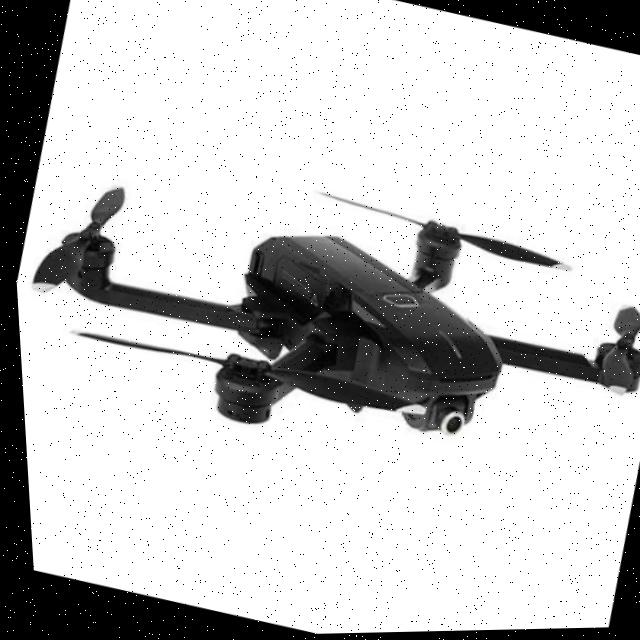drones: (5, 107, 640, 566)
